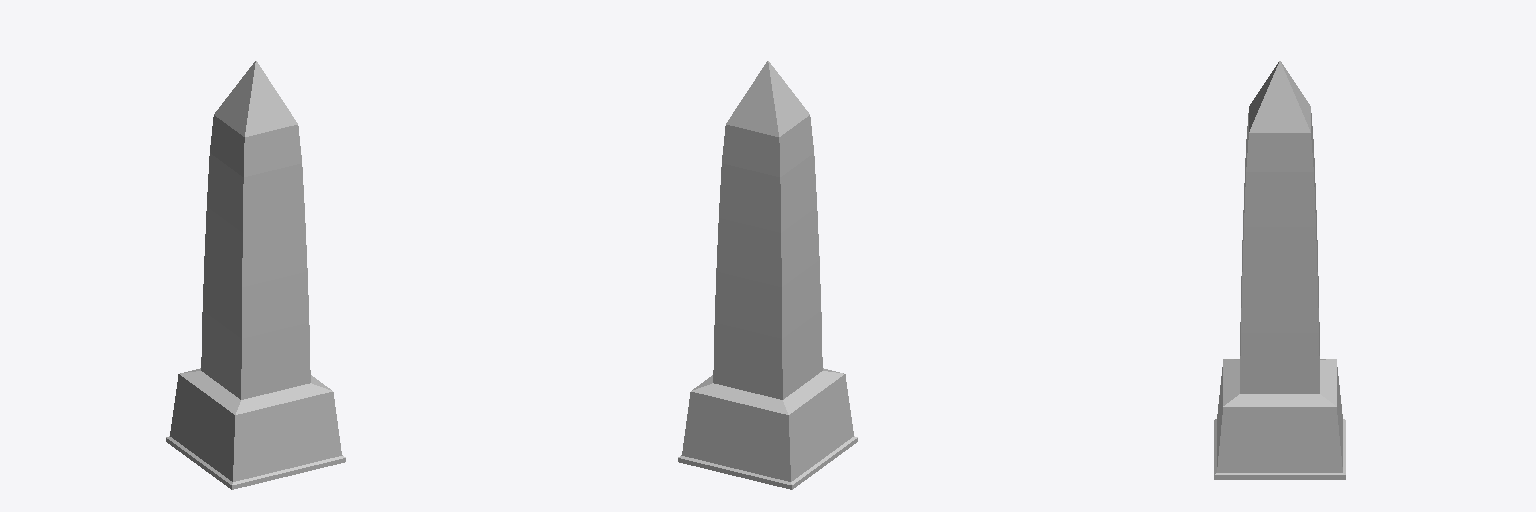
Rendered from obelisk.obj.
3 renders of one model, left to right at view 1: azimuth 30°, elevation 25°; view 2: azimuth 150°, elevation 25°; view 3: azimuth 270°, elevation 25°, orthographic.
Visible parts, largest first — view 1: obelisk; view 2: obelisk; view 3: obelisk.
Boxes of the visible parts, x1=… form: obelisk: x1=166, y1=61, x2=345, y2=489; obelisk: x1=678, y1=61, x2=857, y2=489; obelisk: x1=1214, y1=61, x2=1345, y2=479.
Size of the model in its own units: 6.02 by 19.75 by 6.02.